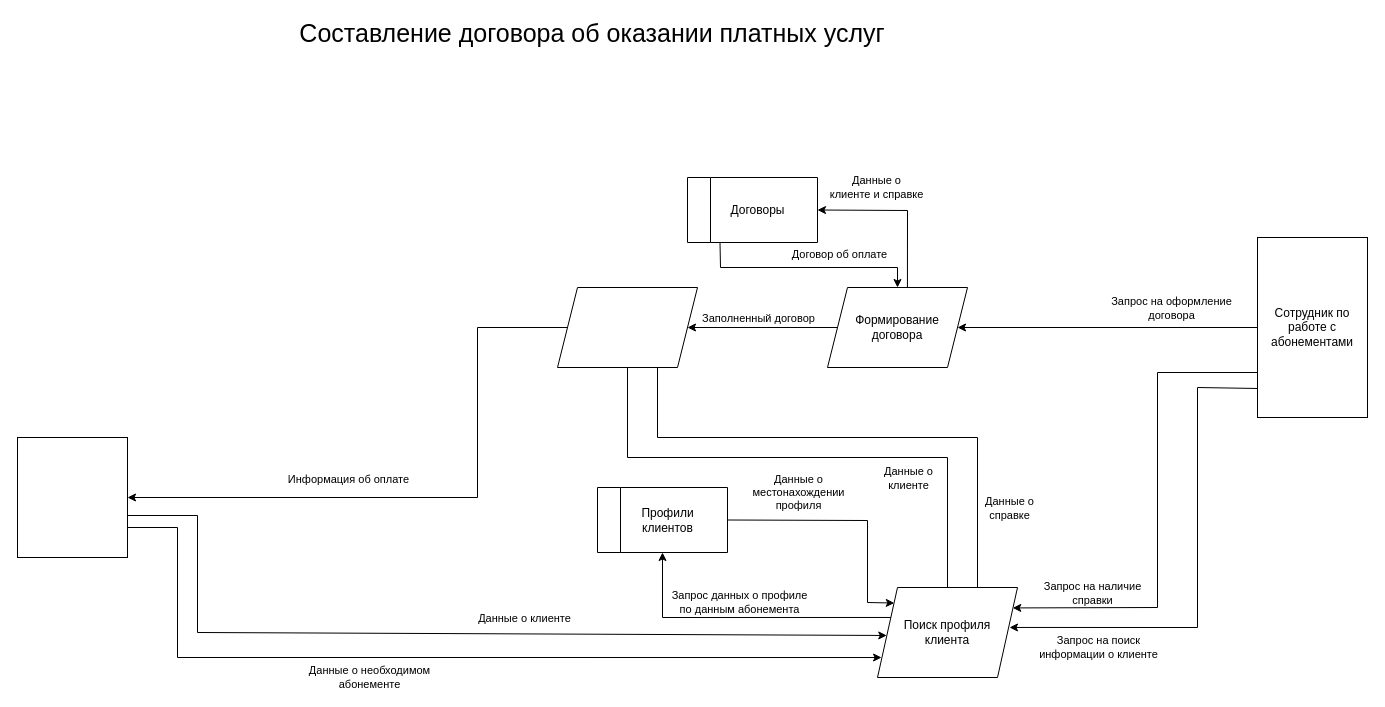
Some shapes in this 1385 by 707 pixel diagram are drawn without their labels. Here are the shapes that lost their labels. From the top down, the box of each, then its label:
(556, 286, 698, 368): Оформление договора
(16, 436, 128, 558): Клиент
